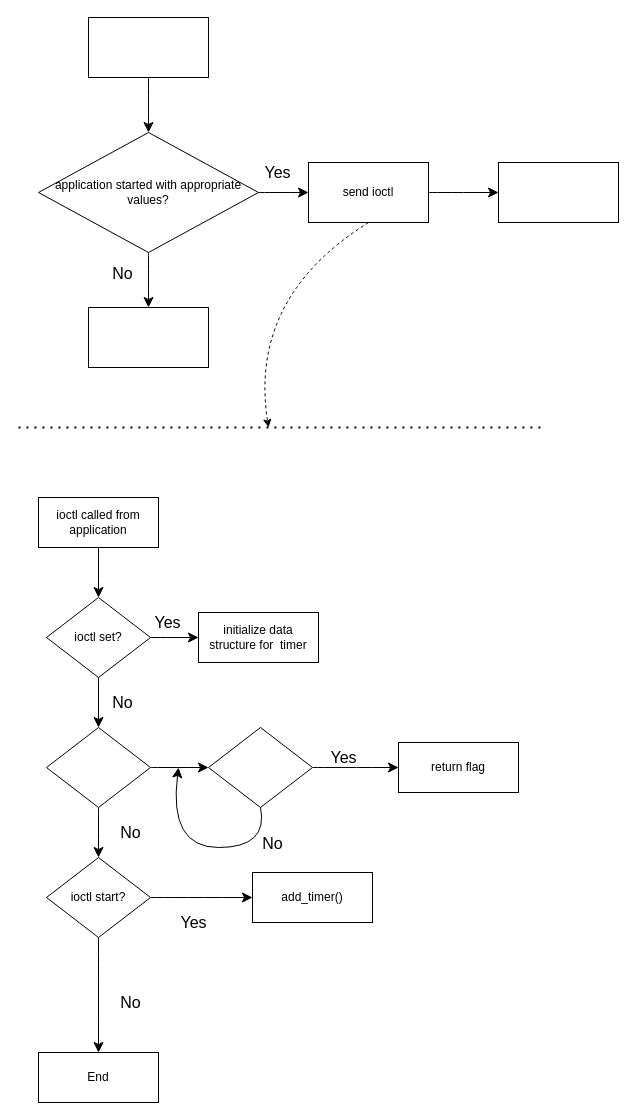
Image size: 636x1120. Some labels were removed from this diagram. The centre of each missing label's shape, as x and y in pixels:
"Application start" goes at (x=148, y=47).
"Print error message. Terminate program." goes at (x=148, y=337).
"read?" goes at (x=98, y=767).
"RESET input given?" goes at (x=260, y=767).
"Terminate" goes at (x=558, y=192).
